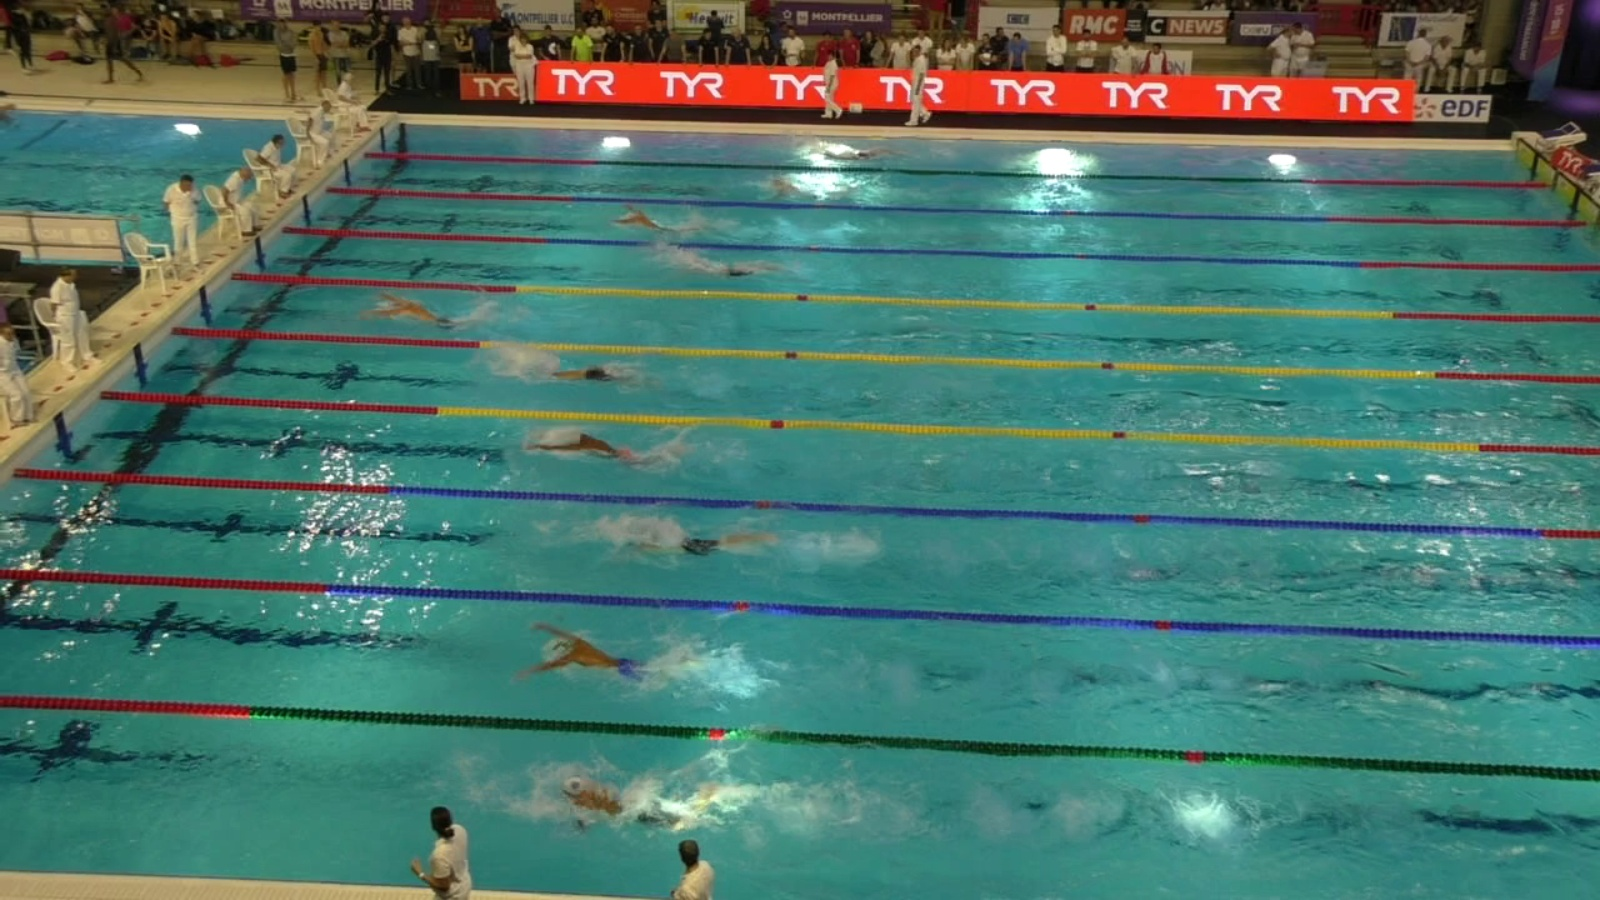swimmerwdd: (519, 616, 679, 692), (555, 767, 726, 836), (529, 432, 701, 477), (619, 521, 795, 562), (370, 288, 495, 336), (610, 200, 734, 240), (514, 357, 645, 391), (671, 255, 816, 284), (811, 140, 922, 165), (762, 173, 846, 204), (1, 95, 22, 126)
